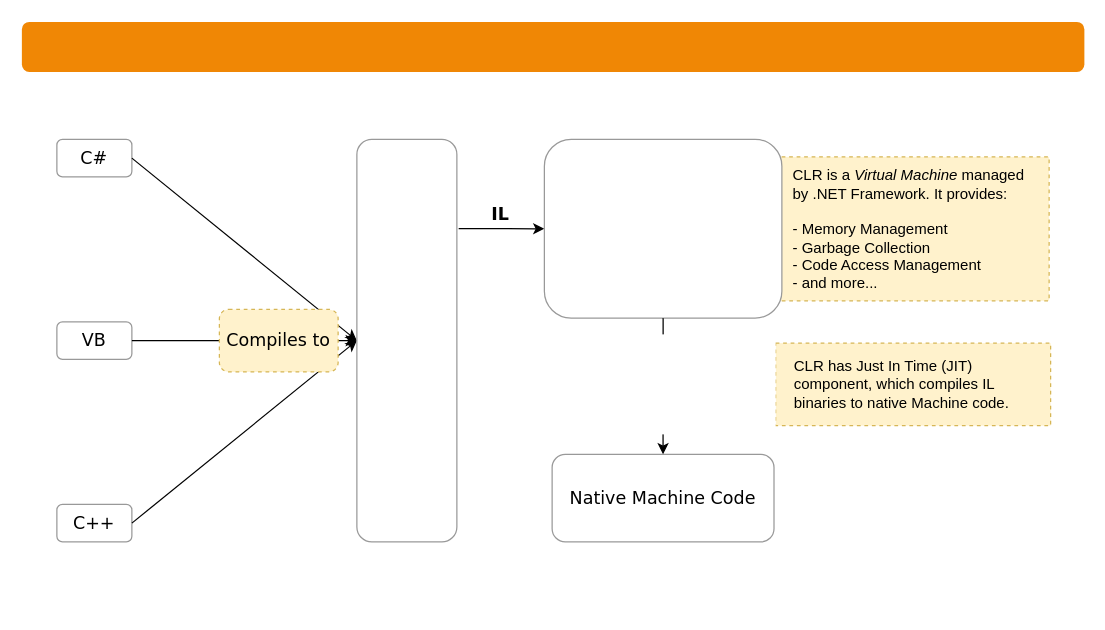
The diagram is 1105 pixels wide and 630 high, and some of its shapes have lost their labels. Here are the shapes that lost their labels. From the top down, the centre of each, then its label:
[552,46]: .NET Execution Process (Additional Details)
[662,228]: Executed in Common Language Runtime ( CLR )
[406,340]: IL Binaries
[662,384]: IL gets JIT to
